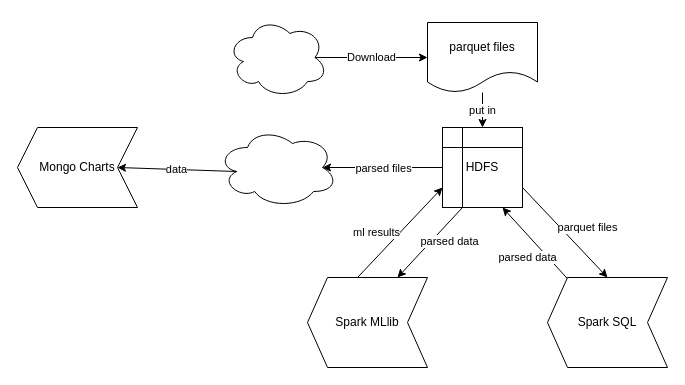
This 685x385 diagram has some shape labels left out. Here are the shapes that lost their labels. From the top down, the box of each, then its label:
(226, 16, 328, 98): Kaggle
(216, 126, 338, 208): MongoDB
